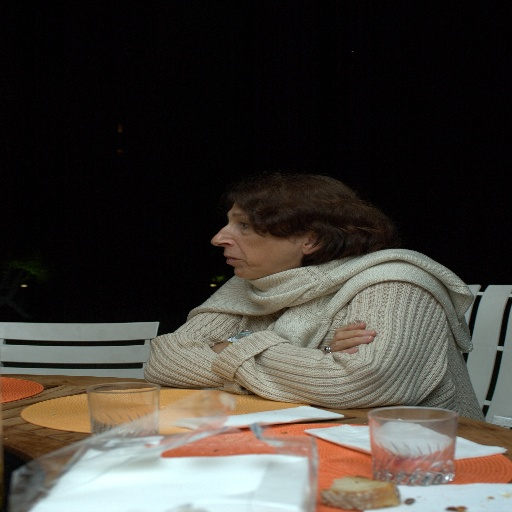hand: (324, 319, 384, 359), (210, 339, 235, 351)
